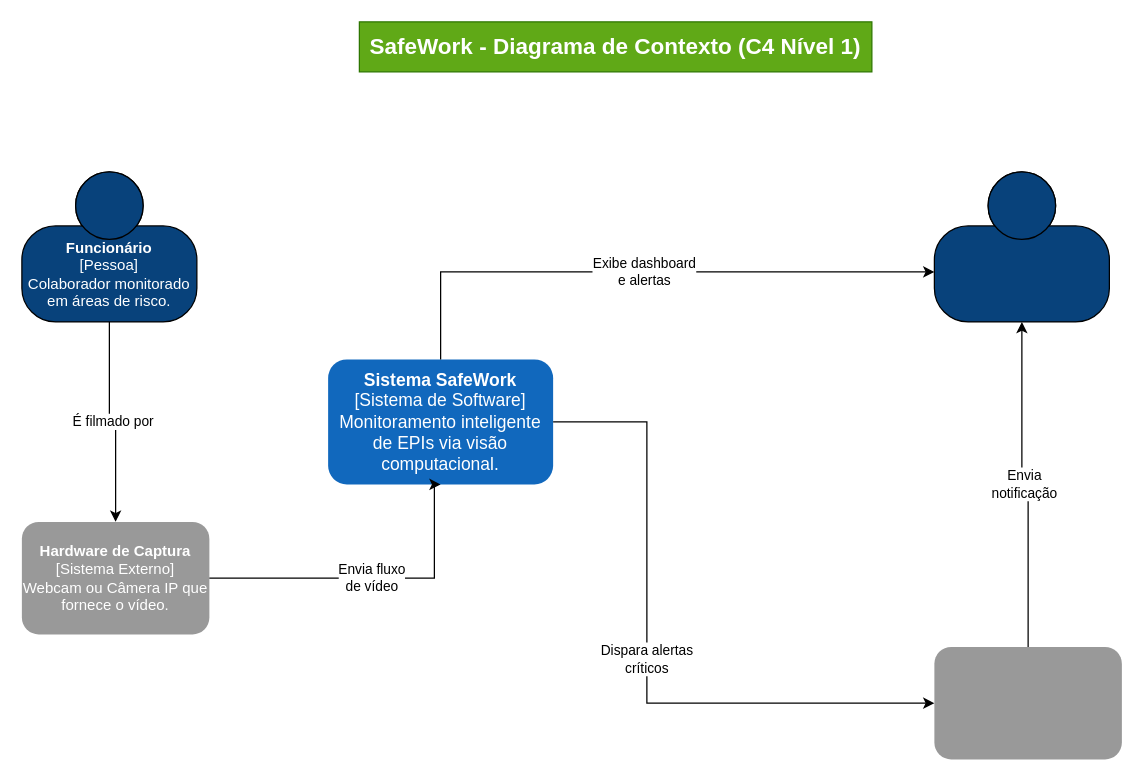
Some shapes in this 1144 by 781 pixel diagram are drawn without their labels. The centre of each missing label's shape, as x and y in pixels:
Serviço de Notificação [Sistema Externo] Envia alertas (E-mail, WhatsApp, etc.).: the point at 1027,702
Técnico de Segurança [Pessoa] Gerencia conformidade e recebe alertas.: the point at 1021,246
